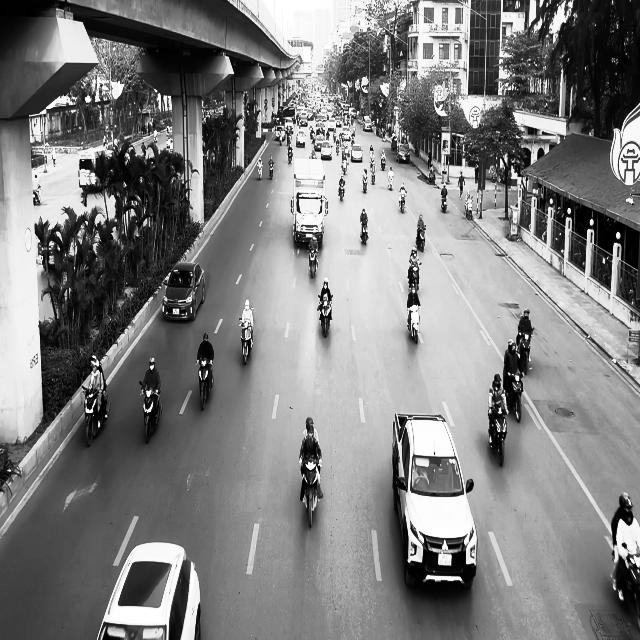bus: (78, 147, 114, 193)
car: (392, 412, 478, 588), (96, 541, 202, 639), (162, 262, 205, 322)
motorbike: (611, 544, 640, 630), (82, 384, 111, 446), (300, 458, 322, 528), (139, 381, 163, 444), (488, 406, 508, 466), (196, 357, 214, 410), (506, 370, 524, 422), (518, 328, 535, 375), (317, 294, 333, 337), (240, 322, 254, 364), (407, 302, 421, 344), (408, 262, 422, 292), (308, 246, 319, 278), (416, 225, 426, 251), (360, 219, 369, 245), (398, 191, 406, 213), (465, 197, 473, 219), (440, 190, 448, 212), (33, 184, 41, 205), (338, 181, 346, 200), (362, 175, 369, 192), (268, 160, 274, 179), (287, 145, 293, 163)
truck: (290, 157, 328, 248)
